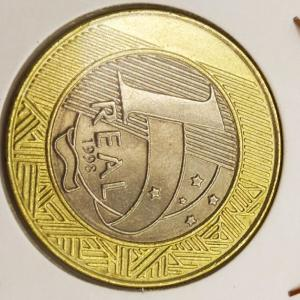1 real: (1, 2, 284, 290)
